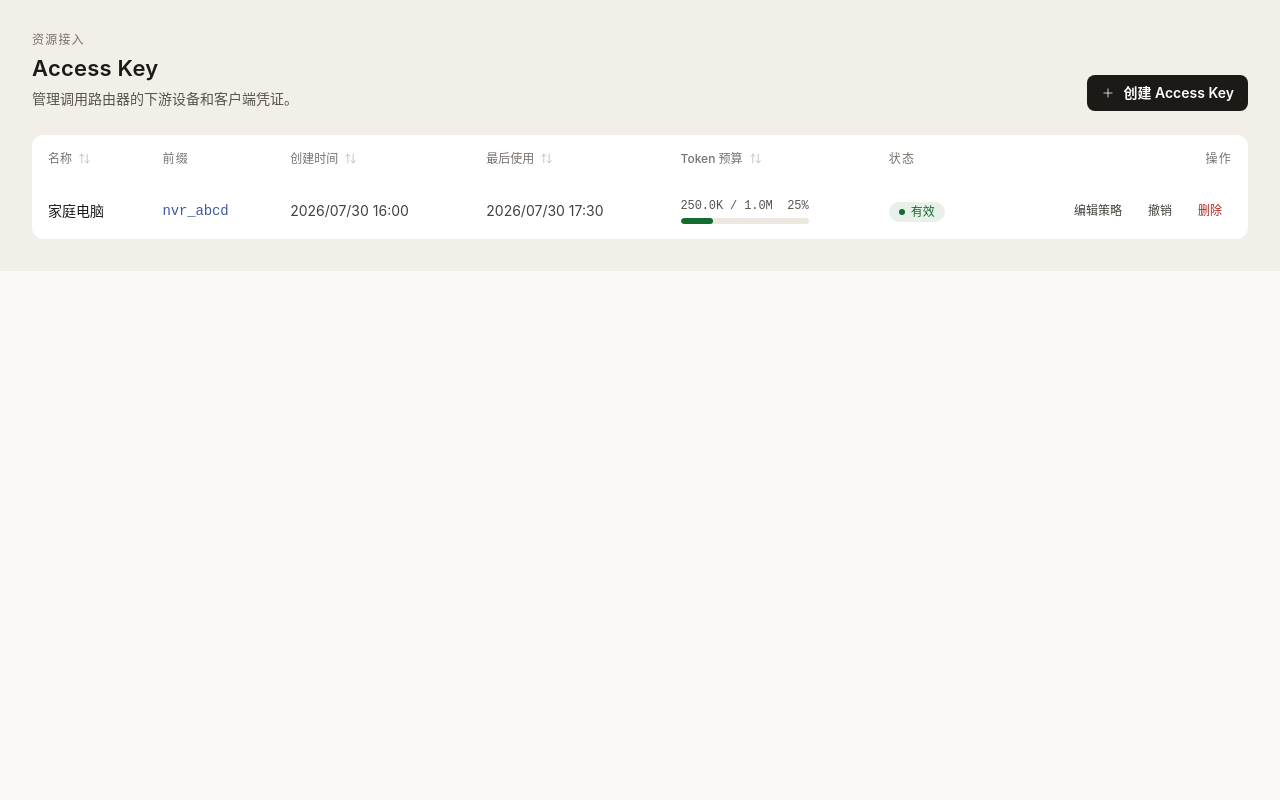
Test case: AccessKeysView › clears the temporary textarea after a successful legacy copy and keeps plaintext visible
This screenshot has width=1280, height=800.
Click the button with test id "open-create-access-key" at [1168, 93], box [1088,75,1248,111]
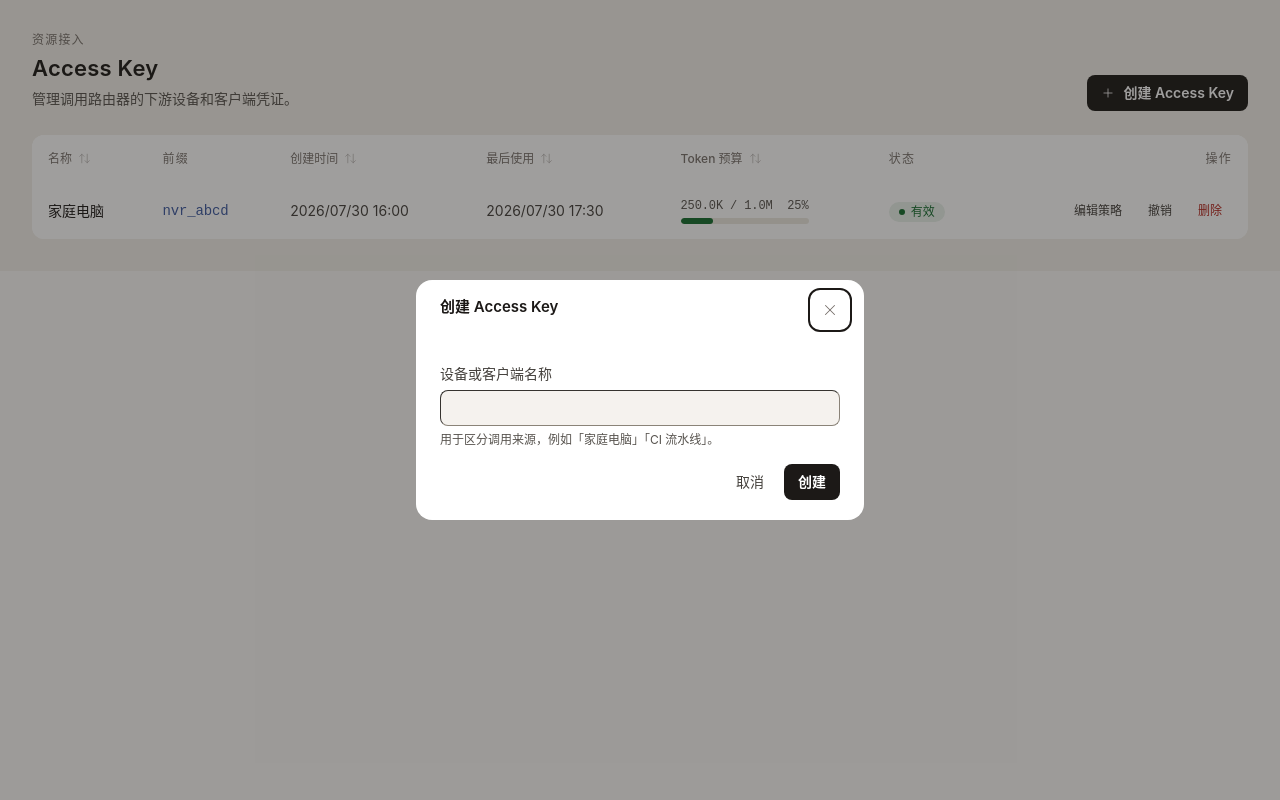
Type "CI" into the field with test id "access-key-name" at [640, 408], box [440,390,840,426]
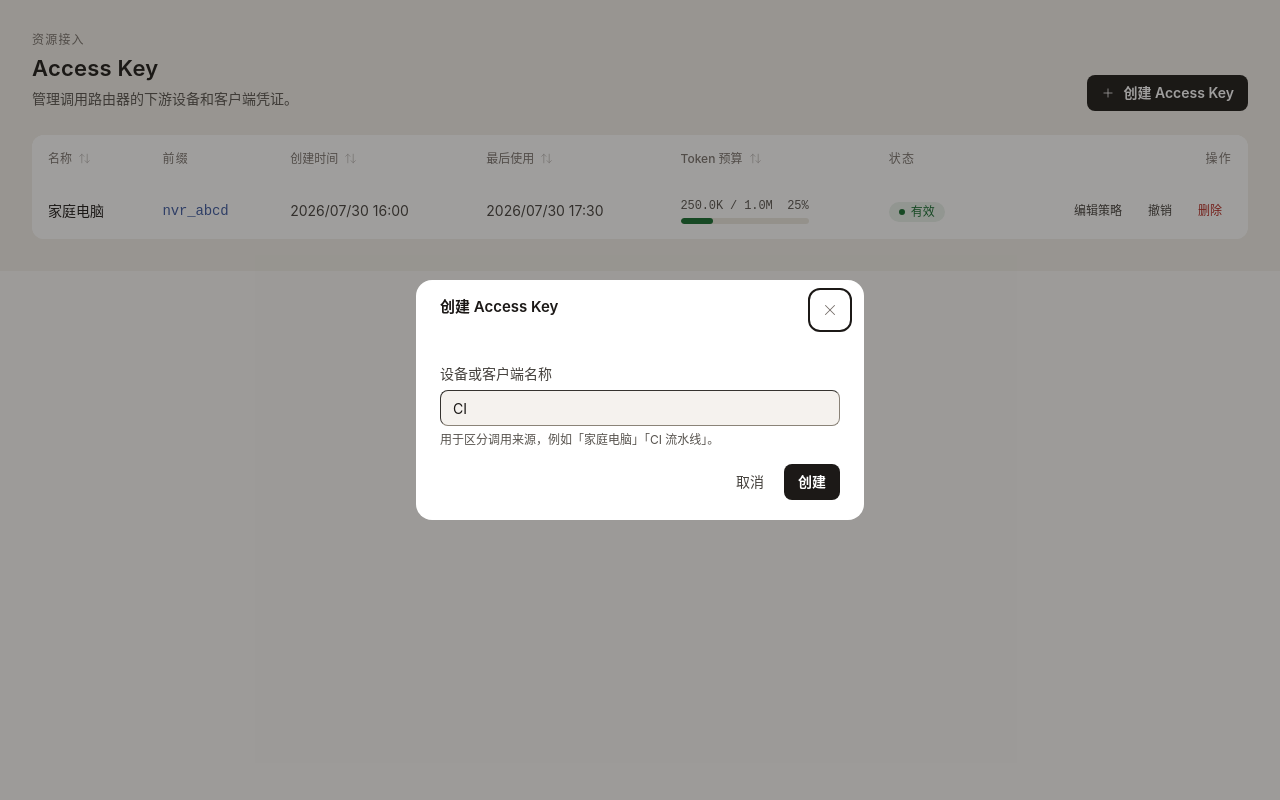
Submit the form with test id "create-access-key-form", box [440,364,840,500]
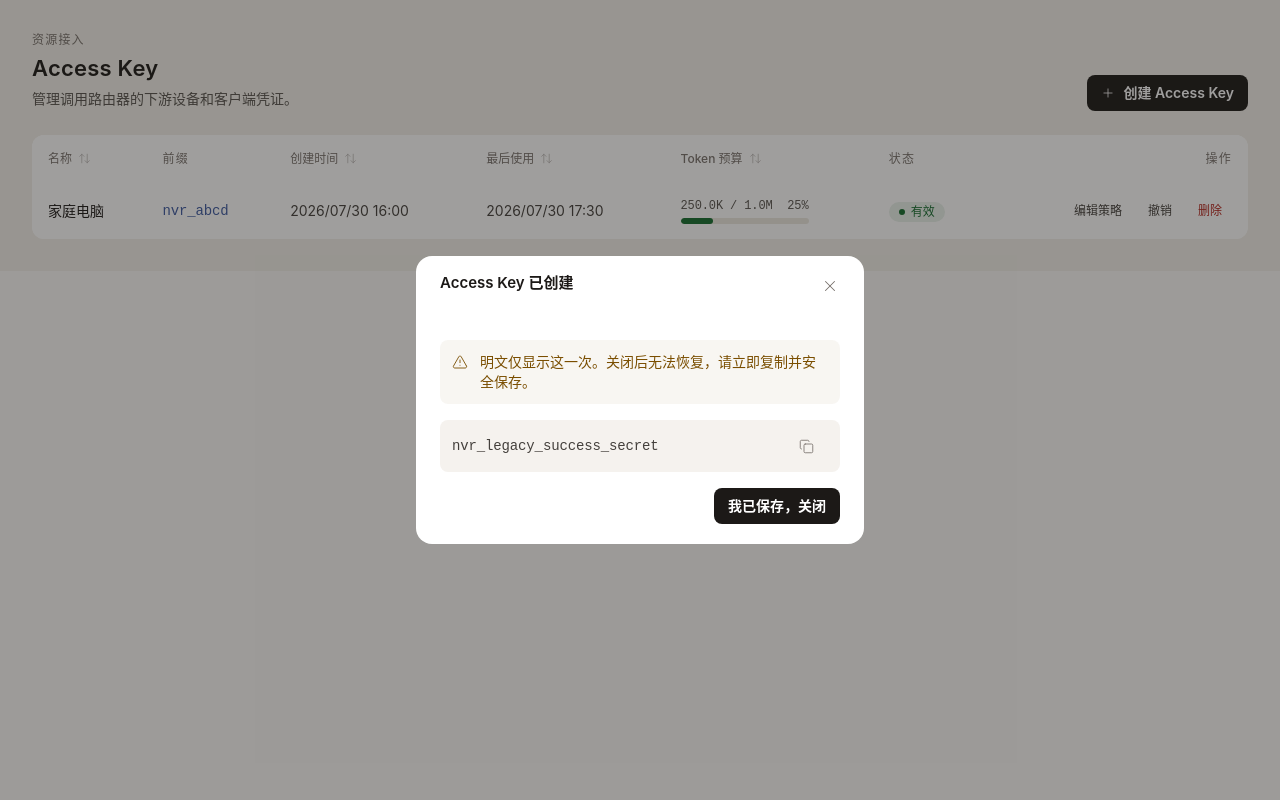
Click the button with test id "copy-created-access-key" at [806, 446], box [790,430,822,462]
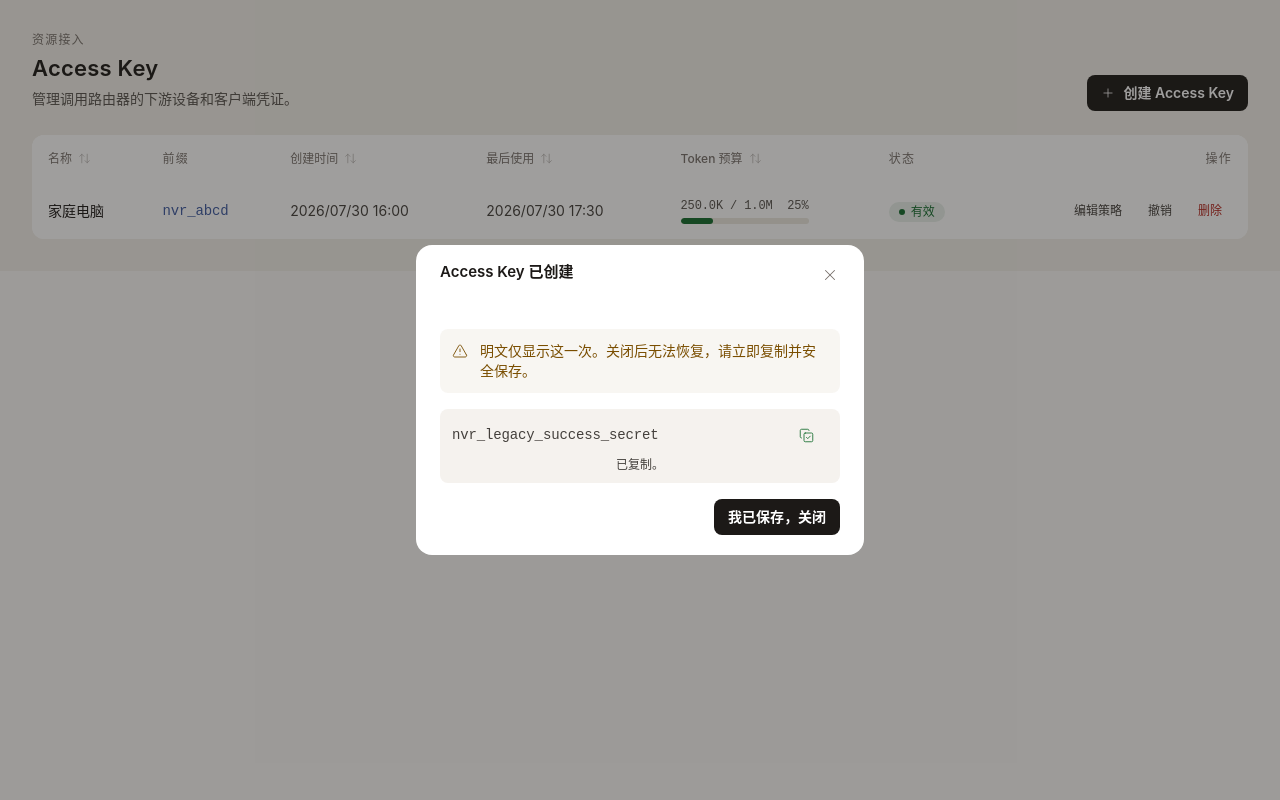
Expected: the element with test id "created-access-key" shows "nvr_legacy_success_secret", [452,427,658,443]
Expected: the text "已复制。" is shown, [616,457,664,472]
